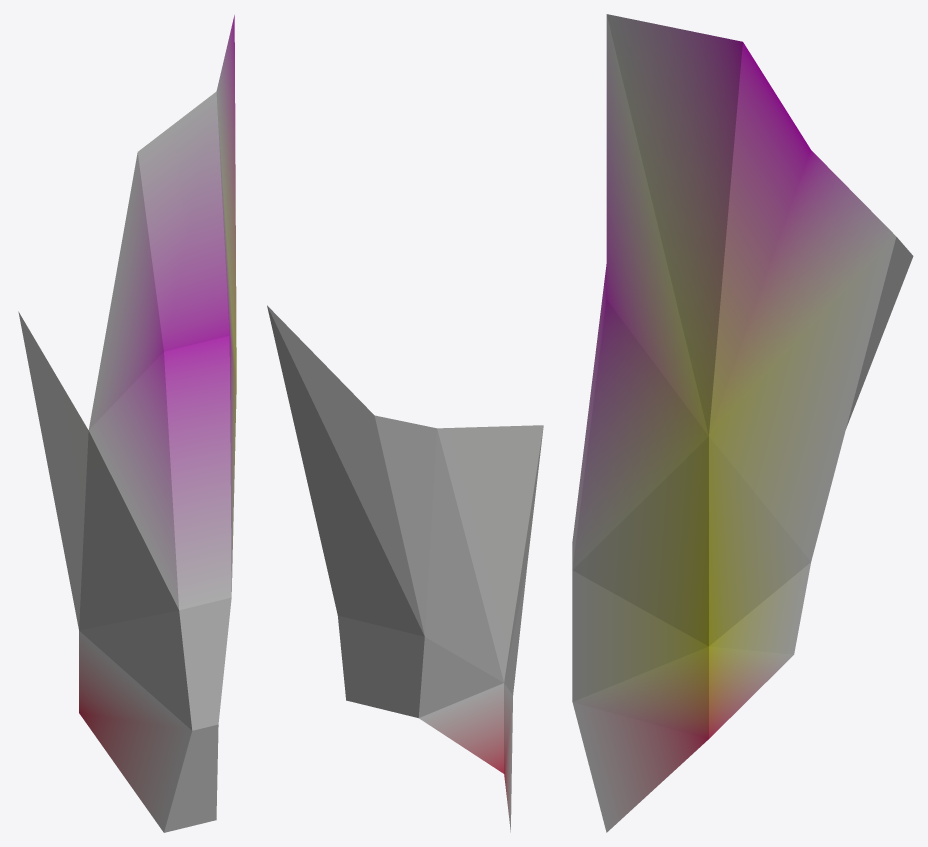
The picture shows the model from 3 angles, left to right: view 1: azimuth 30°, elevation 25°; view 2: azimuth 150°, elevation 25°; view 3: azimuth 270°, elevation 25°; orthographic projection. The views are drawn at different scales.
Visible parts, largest first — view 1: model_11C7; view 2: model_11C7; view 3: model_11C7.
Part boxes in pixels (x1,y1,x2,y2): model_11C7: (18,15,236,832); model_11C7: (267,305,543,832); model_11C7: (572,14,913,832).
Bounding box in the file's own units: 14 × 54 × 20.
